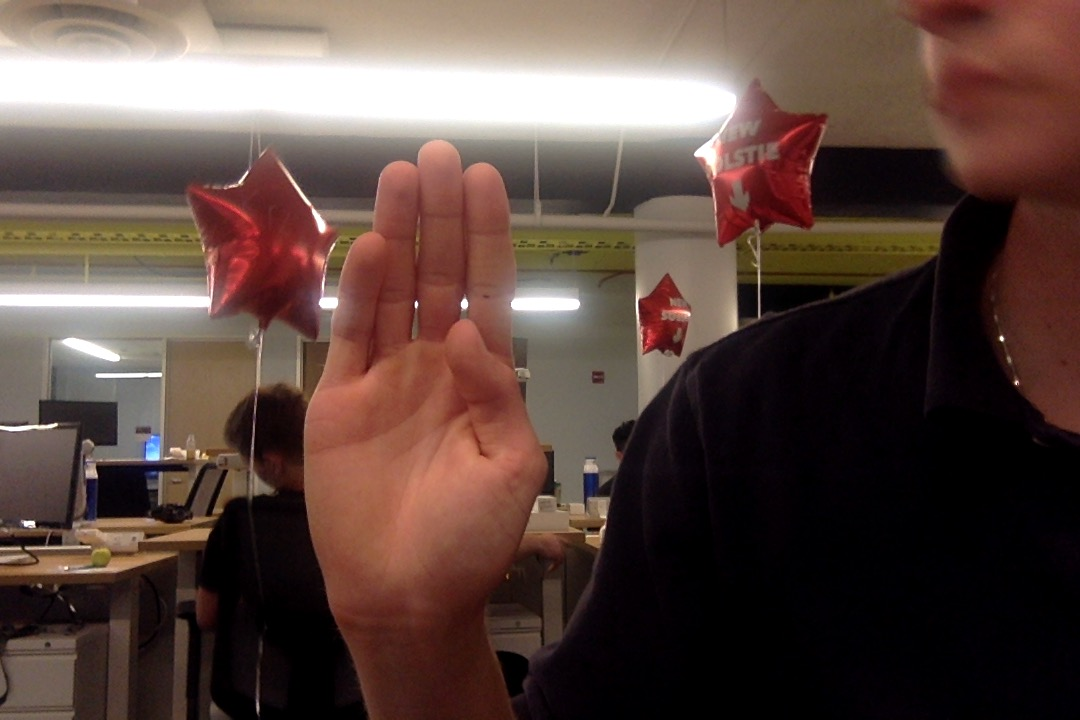b: (298, 137, 549, 643)
